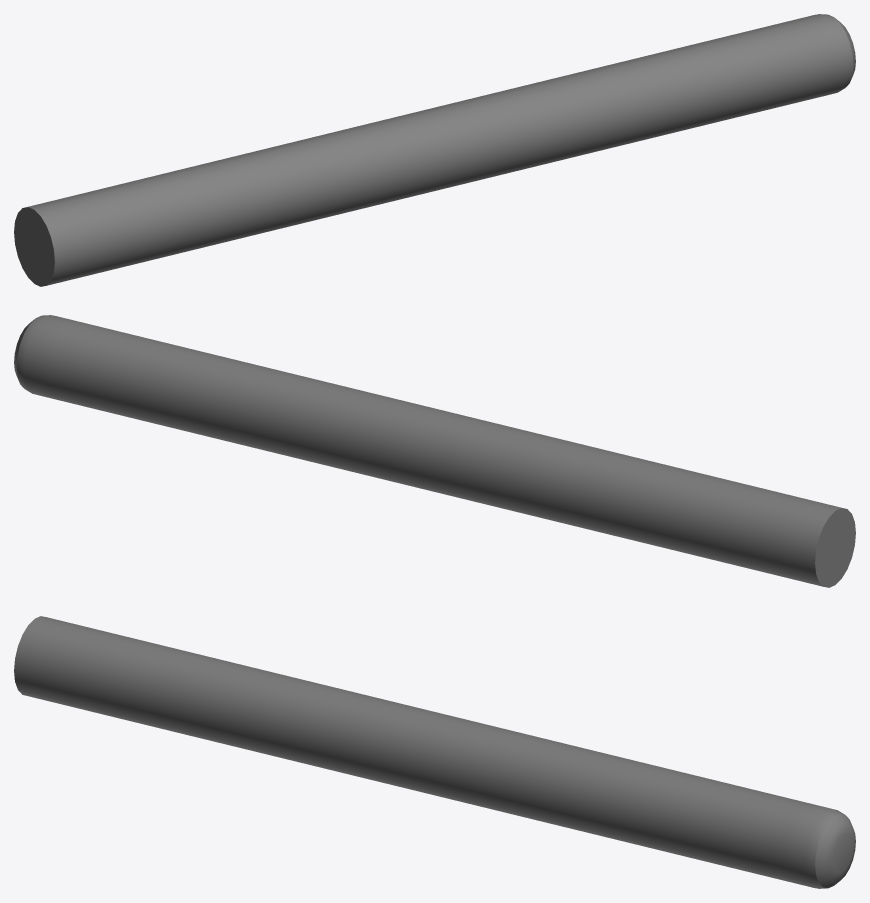
File: SM_Cigarette.fbx
3 renders of one model, top to bottom at view 1: azimuth 30°, elevation 25°; view 2: azimuth 150°, elevation 25°; view 3: azimuth 330°, elevation 25°, orthographic.
Visible parts, largest first — view 1: SM_Cigarette_mesh; view 2: SM_Cigarette_mesh; view 3: SM_Cigarette_mesh.
Part boxes in pixels (box(x1,y1,x2,y2)): SM_Cigarette_mesh: box(14, 14, 855, 286); SM_Cigarette_mesh: box(14, 315, 855, 587); SM_Cigarette_mesh: box(14, 616, 855, 888).
Bounding box in the file's own units: 0.0835 × 0.00733 × 0.00733.
Materials: 1 (1 with a texture image).
